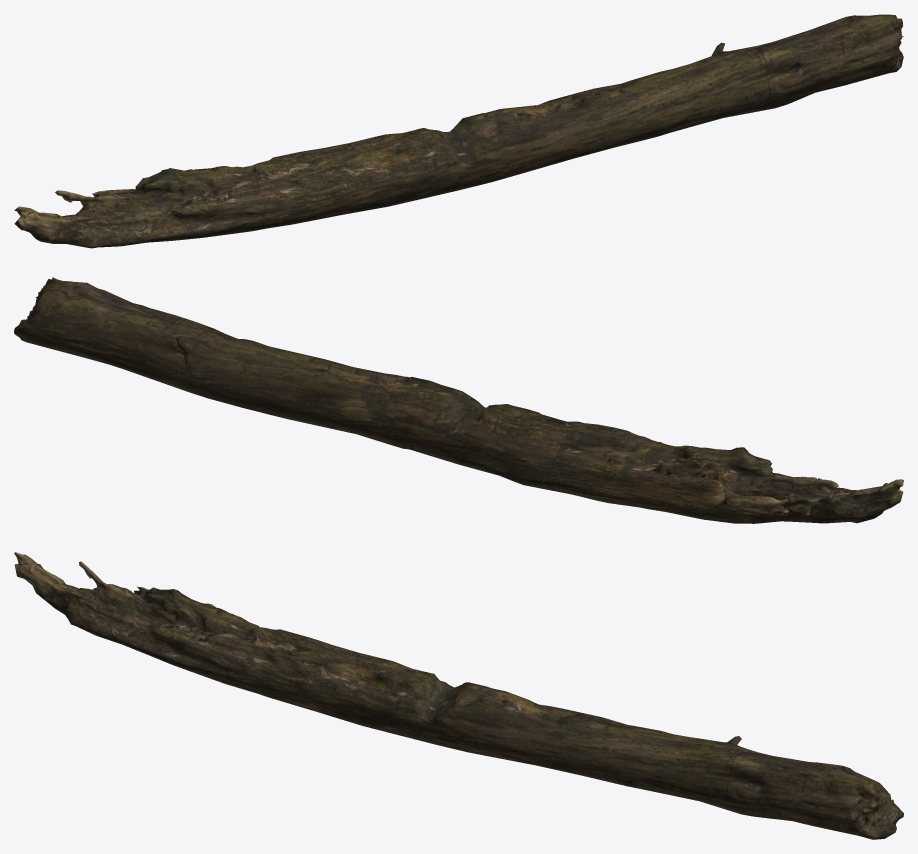
File: dead_tree_trunk.glb
The picture shows the model from 3 angles, top to bottom: view 1: azimuth 30°, elevation 25°; view 2: azimuth 150°, elevation 25°; view 3: azimuth 330°, elevation 25°; orthographic projection.
Visible parts, largest first — view 1: dead_tree_trunk; view 2: dead_tree_trunk; view 3: dead_tree_trunk.
Part boxes in pixels (x1,y1,x2,y2): dead_tree_trunk: (14,14,903,248); dead_tree_trunk: (14,277,903,523); dead_tree_trunk: (14,552,903,839).
Size of the model in its own units: 3.05 by 0.2905 by 0.2775.
1 material, 1 textured.
